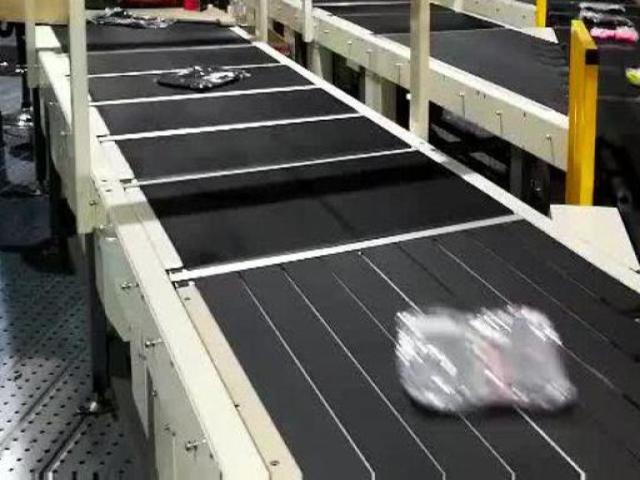conveyor: (40, 13, 640, 480)
